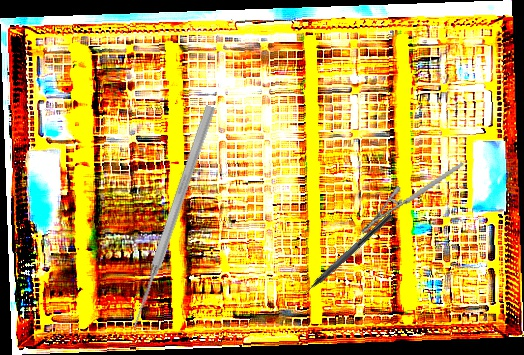Chopper: (291, 206, 394, 303)
Needle Holder: (349, 161, 475, 236)
Pusher: (127, 103, 218, 330)
